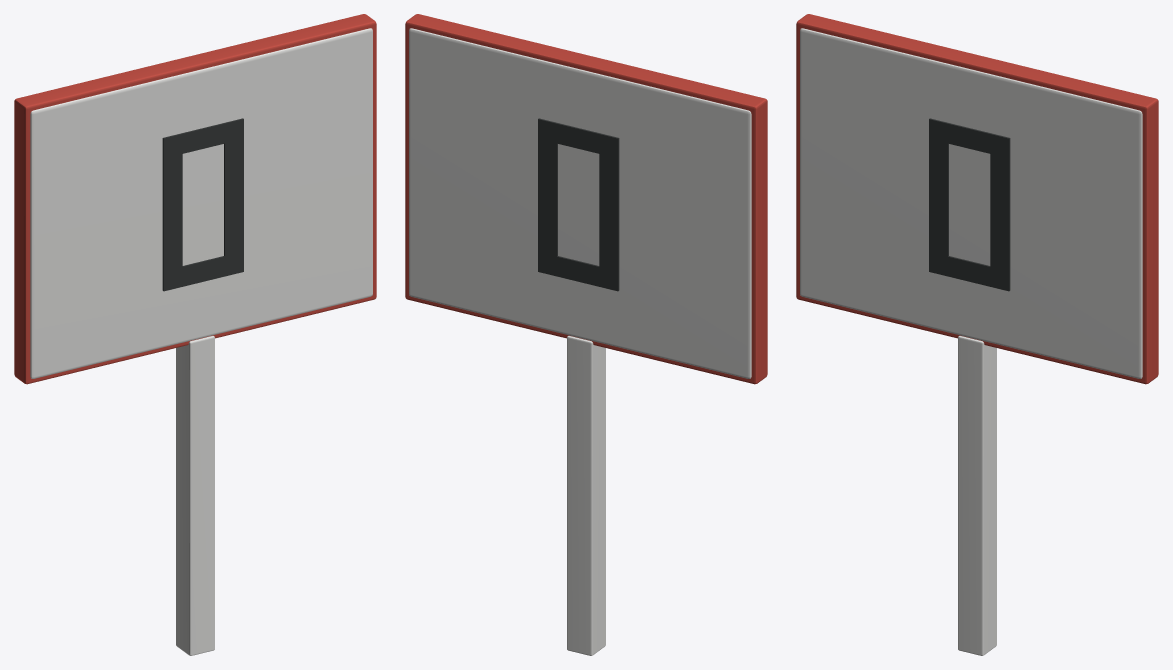
The model's file is sport.stunt.yard_board_0.glb.
The picture shows the model from 3 angles, left to right: view 1: azimuth 30°, elevation 25°; view 2: azimuth 150°, elevation 25°; view 3: azimuth 330°, elevation 25°; orthographic projection.
Parts seen in each view (by area): view 1: main__paint_eed, main__paint_c44, main__paint_333; view 2: main__paint_eed, main__paint_c44, main__paint_333; view 3: main__paint_eed, main__paint_c44, main__paint_333.
Boxes of the visible parts, x1,y1,x2,y2 form: main__paint_eed: (30,28,372,655); main__paint_c44: (14,14,376,384); main__paint_333: (162,118,243,291); main__paint_eed: (409,28,751,655); main__paint_c44: (405,14,767,384); main__paint_333: (538,118,619,291); main__paint_eed: (800,28,1142,655); main__paint_c44: (796,14,1158,384); main__paint_333: (929,118,1010,291).
Bounding box in the file's own units: 0.82 × 1.31 × 0.068.
